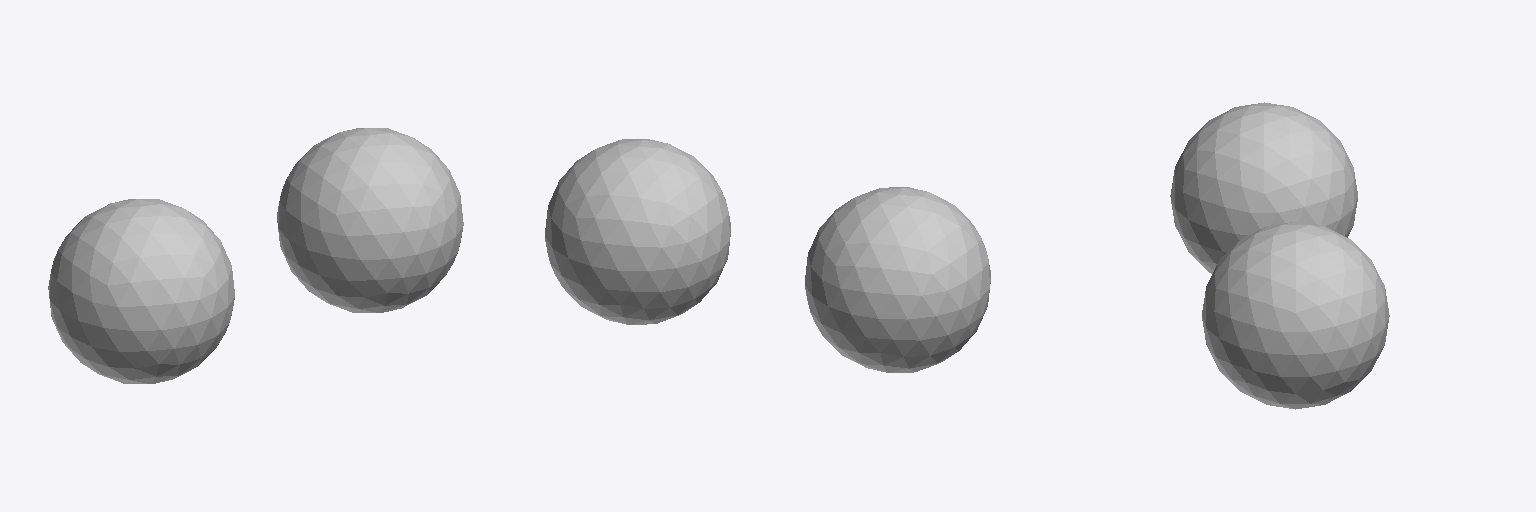
Rendered from eyalSpheres3_shifted.obj.
The picture shows the model from 3 angles: view 1: azimuth 30°, elevation 25°; view 2: azimuth 150°, elevation 25°; view 3: azimuth 270°, elevation 25°; orthographic projection.
Visible parts, largest first — view 1: icoshpere31_Icosphere.006, icoshpere32_Icosphere.007; view 2: icoshpere31_Icosphere.006, icoshpere32_Icosphere.007; view 3: icoshpere31_Icosphere.006, icoshpere32_Icosphere.007.
Boxes of the visible parts, x1,y1,x2,y2 form: icoshpere31_Icosphere.006: [277, 128, 463, 312]; icoshpere32_Icosphere.007: [48, 199, 234, 383]; icoshpere31_Icosphere.006: [545, 139, 730, 324]; icoshpere32_Icosphere.007: [805, 187, 990, 372]; icoshpere31_Icosphere.006: [1202, 222, 1389, 409]; icoshpere32_Icosphere.007: [1170, 102, 1357, 273].
Size of the model in its own units: 1.5 by 0.6 by 0.7.